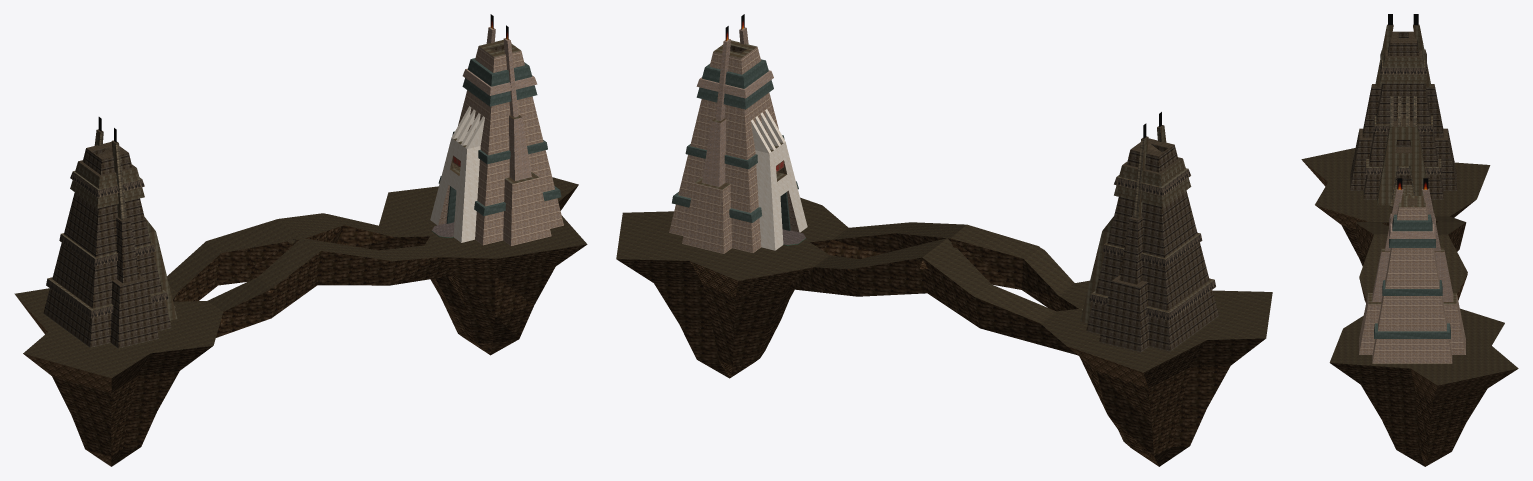
File: map_facingworlds.fbx
The picture shows the model from 3 angles, left to right: view 1: azimuth 30°, elevation 25°; view 2: azimuth 150°, elevation 25°; view 3: azimuth 270°, elevation 25°; orthographic projection. The views are drawn at different scales.
Parts seen in each view (by area): view 1: structural; view 2: structural; view 3: structural, detail_bothsided.
Part boxes in pixels (x1,y1,x2,y2): structural: (14, 27, 587, 466); structural: (616, 27, 1272, 466); structural: (1301, 24, 1518, 466); detail_bothsided: (1388, 14, 1428, 189).
Size of the model in its own units: 27331 by 15138 by 10265.
Materials: 35 (35 with a texture image).
